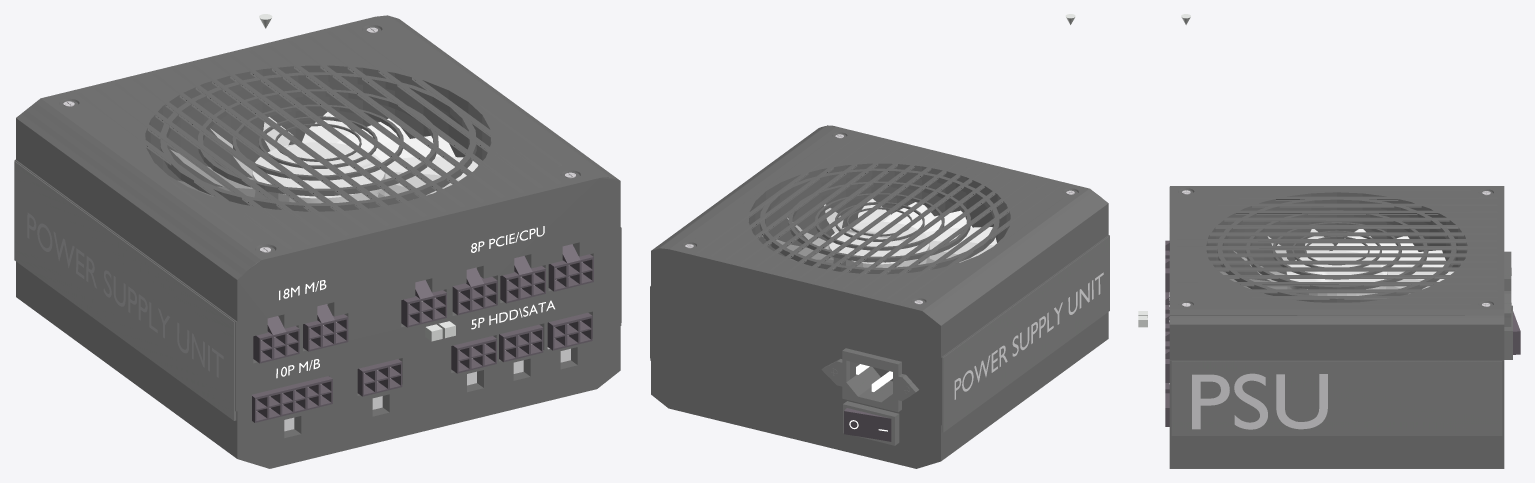
File: scene.opt.glb
The picture shows the model from 3 angles, left to right: view 1: azimuth 30°, elevation 25°; view 2: azimuth 150°, elevation 25°; view 3: azimuth 270°, elevation 25°; orthographic projection. The views are drawn at different scales.
Visible parts, largest first — view 1: Object_6, Object_4, Object_12, Object_38; view 2: Object_6, Object_12, Object_4; view 3: Object_6, Object_12, Object_4.
Boxes of the visible parts, x1,y1,x2,y2 form: Object_6: (14,15,621,468); Object_4: (27,14,593,431); Object_12: (14,161,621,420); Object_38: (276,226,554,378); Object_6: (650,125,1109,468); Object_12: (650,236,1109,445); Object_4: (685,14,1103,441); Object_6: (1169,186,1504,468); Object_12: (1171,251,1512,435); Object_4: (1138,14,1520,429).
Bounding box in the file's own units: 20.45 × 21.94 × 22.73.
Materials: 4 (4 with a texture image).
